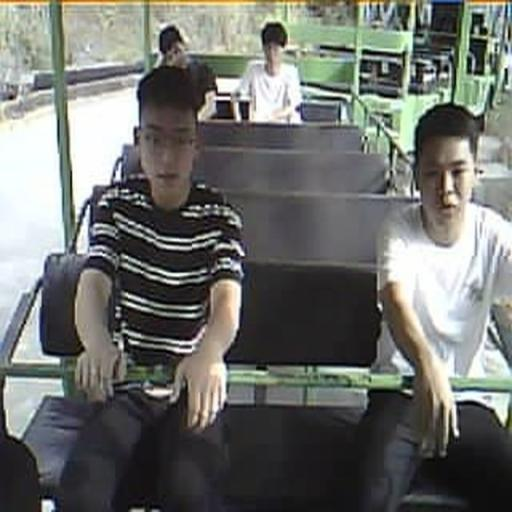persona: (58, 62, 247, 510), (358, 101, 512, 510), (230, 21, 304, 124), (152, 26, 218, 122)
